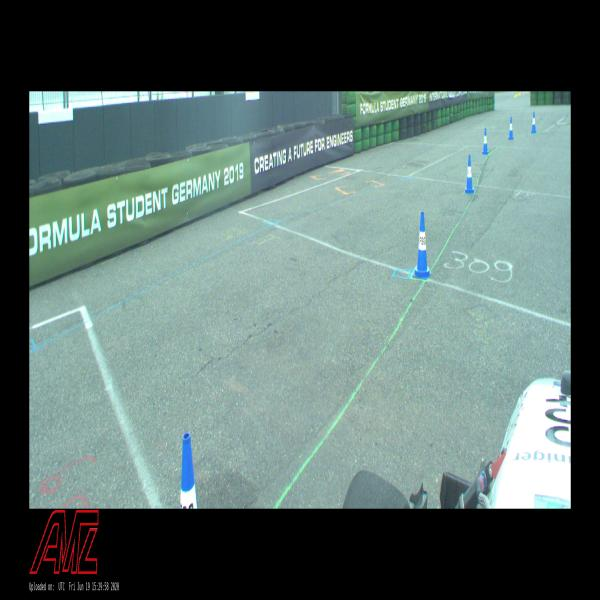blue_cone: (180, 432, 198, 508), (413, 211, 431, 279), (464, 155, 474, 194), (482, 128, 489, 154), (508, 117, 514, 139), (531, 112, 537, 133)
